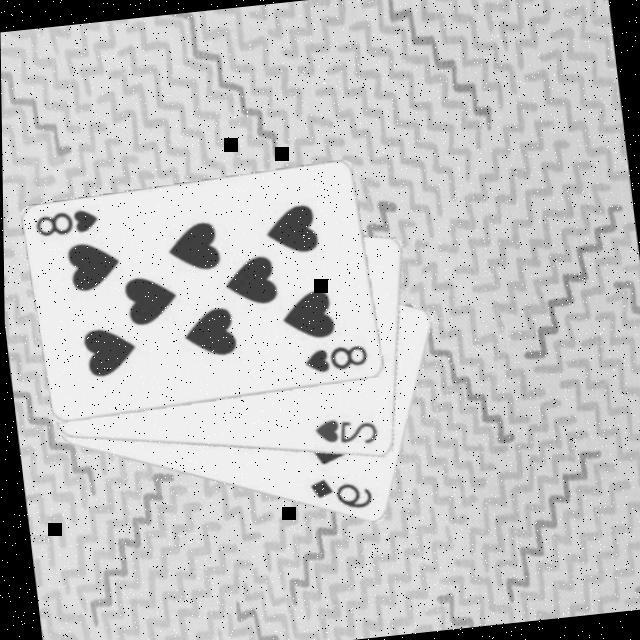2H: (307, 410, 378, 452)
6D: (302, 469, 373, 516)
8H: (297, 339, 368, 376), (28, 204, 99, 241)
